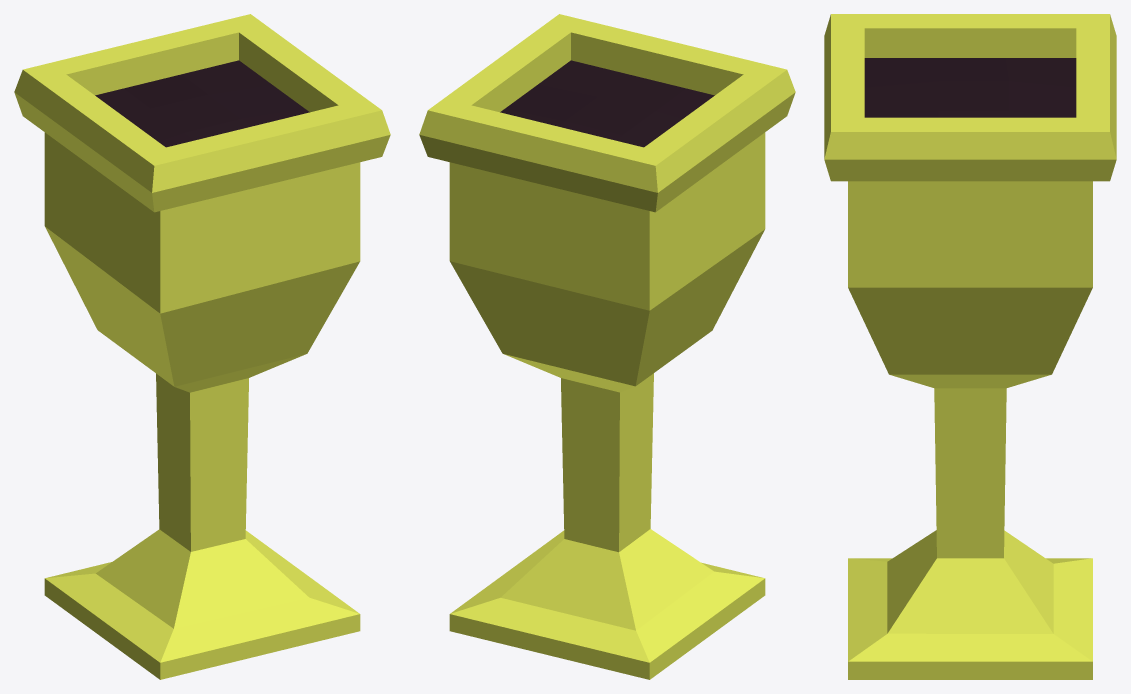
File: pot4.fbx
The picture shows the model from 3 angles, left to right: view 1: azimuth 30°, elevation 25°; view 2: azimuth 150°, elevation 25°; view 3: azimuth 270°, elevation 25°; orthographic projection. The views are drawn at different scales.
Parts seen in each view (by area): view 1: Pot4; view 2: Pot4; view 3: Pot4.
Part boxes in pixels (x1,y1,x2,y2): Pot4: (14,14,390,679); Pot4: (419,14,795,679); Pot4: (824,14,1116,679).
Bounding box in the file's own units: 23.86 × 50 × 23.86.
